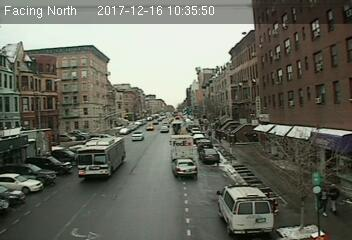bus: (76, 137, 127, 178)
car: (173, 158, 198, 179), (201, 149, 220, 163), (130, 132, 144, 141)
police: (216, 181, 277, 238)
truck: (169, 134, 194, 159)
